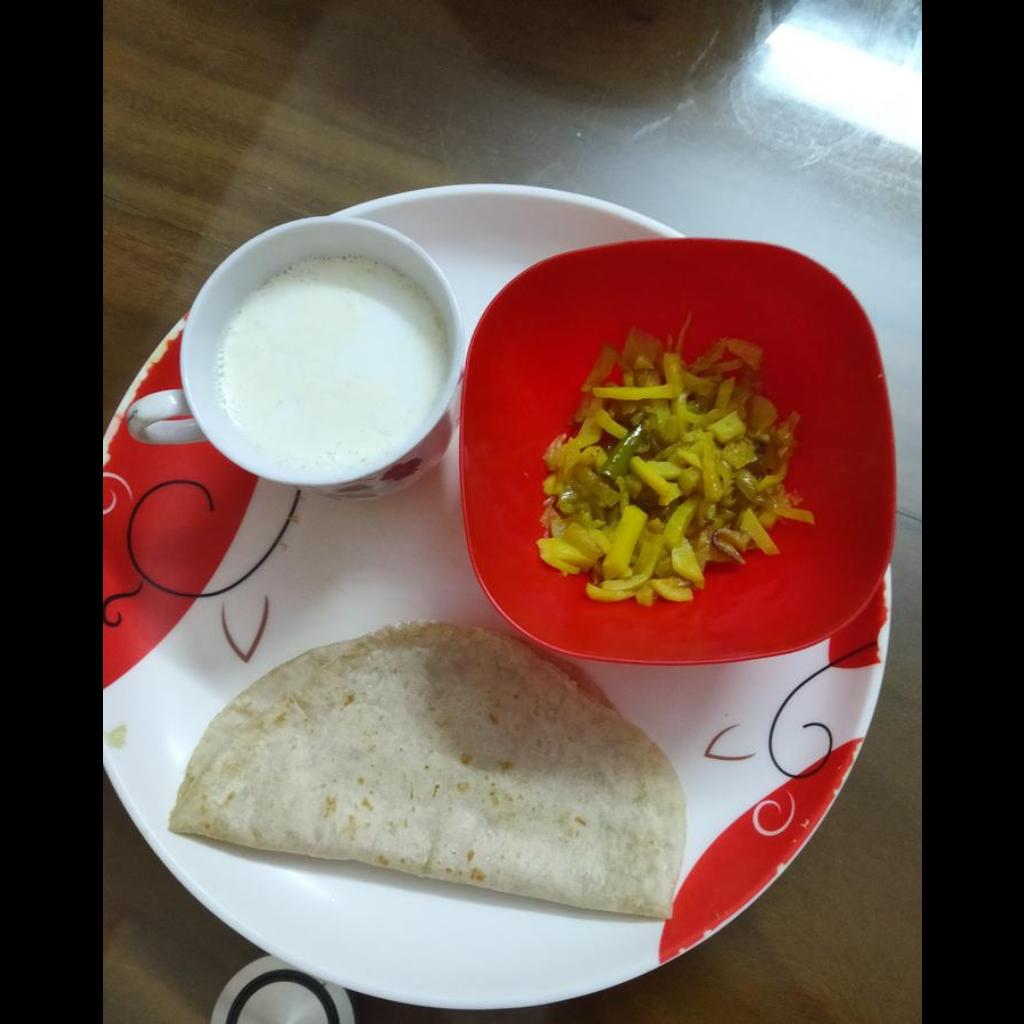milk: (218, 260, 443, 454)
ruti: (161, 619, 686, 922)
vegetable: (536, 343, 813, 609)
